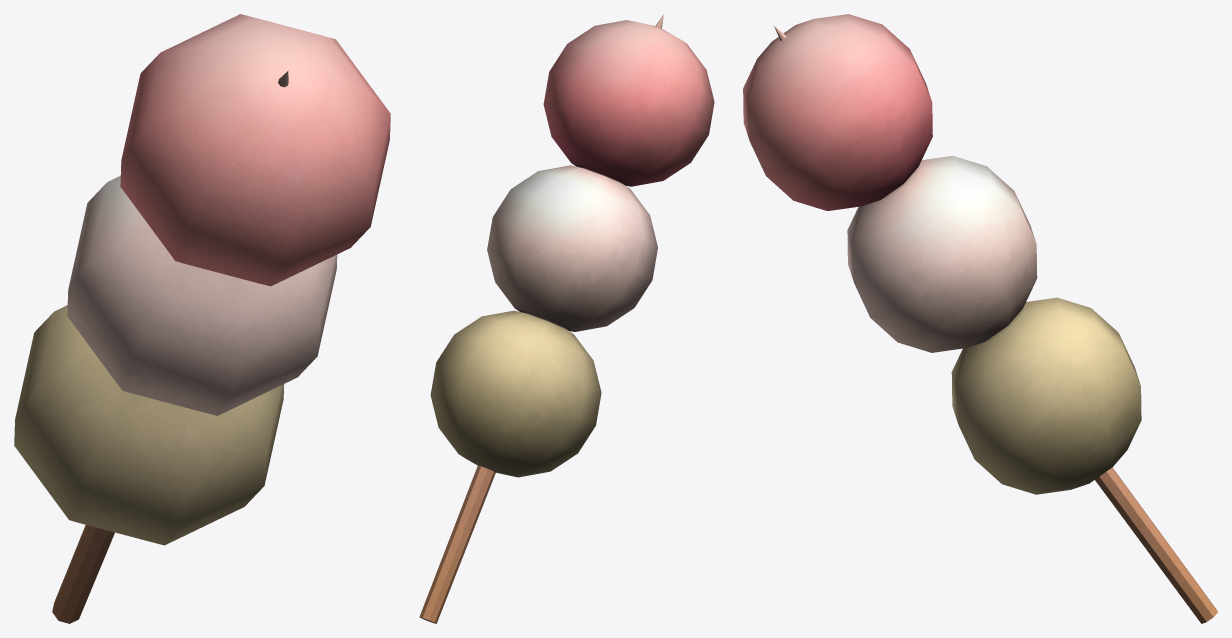
3 renders of one model, left to right at view 1: azimuth 30°, elevation 25°; view 2: azimuth 150°, elevation 25°; view 3: azimuth 270°, elevation 25°, orthographic. The views are drawn at different scales.
Visible parts, largest first — view 1: Dango, Stick; view 2: Dango, Stick; view 3: Dango, Stick.
Boxes of the visible parts, <box> form: Dango: <box>14,14,390,545</box>; Stick: <box>52,71,288,623</box>; Dango: <box>430,20,714,477</box>; Stick: <box>419,14,663,623</box>; Dango: <box>743,14,1141,494</box>; Stick: <box>774,26,1217,623</box>.
Size of the model in its own units: 1.86 by 5.14 by 3.85.
1 material, 1 textured.
